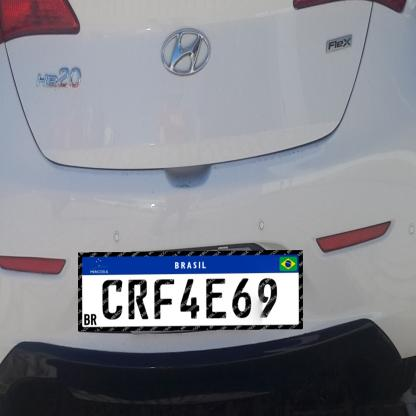PlacaM: (78, 250, 303, 331)
